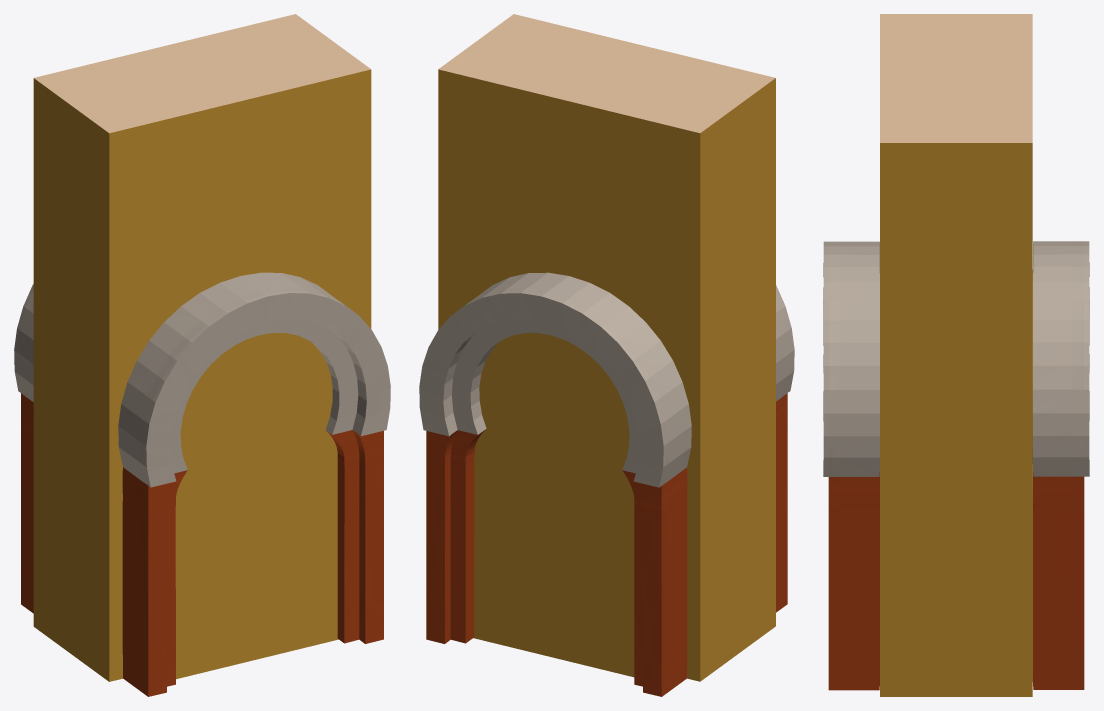
Rendered from Door-v2.fbx.
The picture shows the model from 3 angles, left to right: view 1: azimuth 30°, elevation 25°; view 2: azimuth 150°, elevation 25°; view 3: azimuth 270°, elevation 25°; orthographic projection.
Parts seen in each view (by area): view 1: Wall with door v2, HiddenDoor.001, ArcFrame.003, ArcFrame.004; view 2: Wall with door v2, HiddenDoor.001, ArcFrame.004, ArcFrame.003; view 3: Wall with door v2, ArcFrame.003, ArcFrame.004.
Part boxes in pixels (x1,y1,x2,y2): Wall with door v2: (33,14,371,681); HiddenDoor.001: (175,333,338,679); ArcFrame.003: (118,272,390,696); ArcFrame.004: (14,284,33,613); Wall with door v2: (438,14,775,681); HiddenDoor.001: (473,333,634,677); ArcFrame.004: (419,272,691,696); ArcFrame.003: (776,285,794,612); Wall with door v2: (880,14,1032,696); ArcFrame.003: (823,241,879,690); ArcFrame.004: (1033,241,1089,689).
Size of the model in its own units: 200 by 401 by 174.
